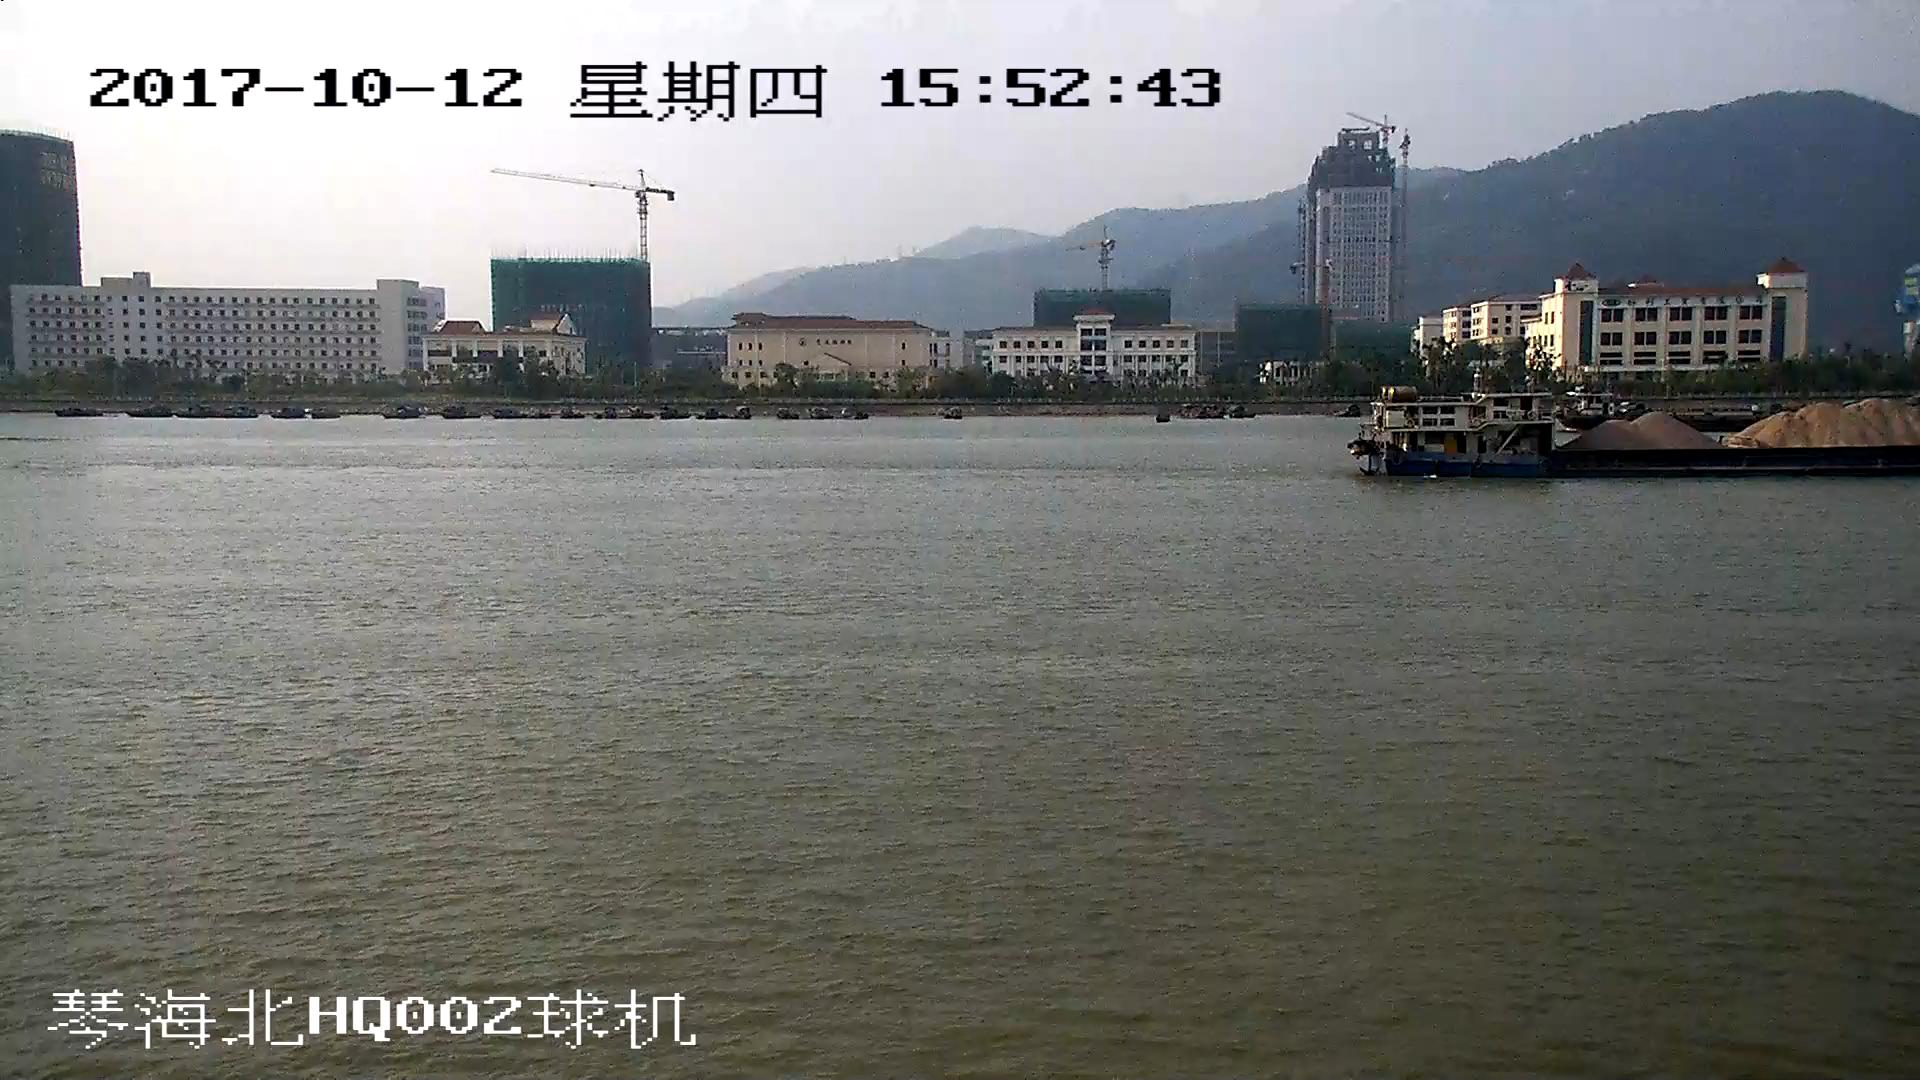ore carrier: (1356, 391, 1920, 475)
